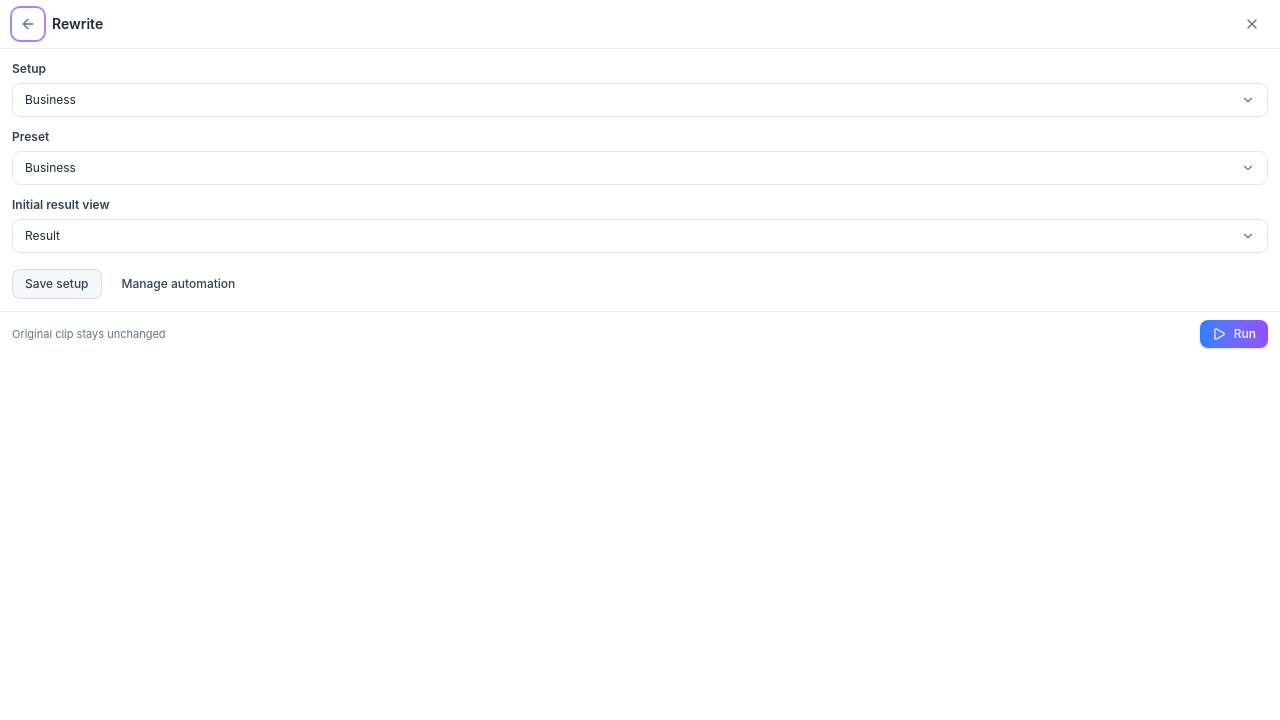
Test case: one durable transformation path › opens a pinned setup and lets the user return to the tool list
Click the button named "Back to tools". click: (28, 24)
box: [12,8,44,40]
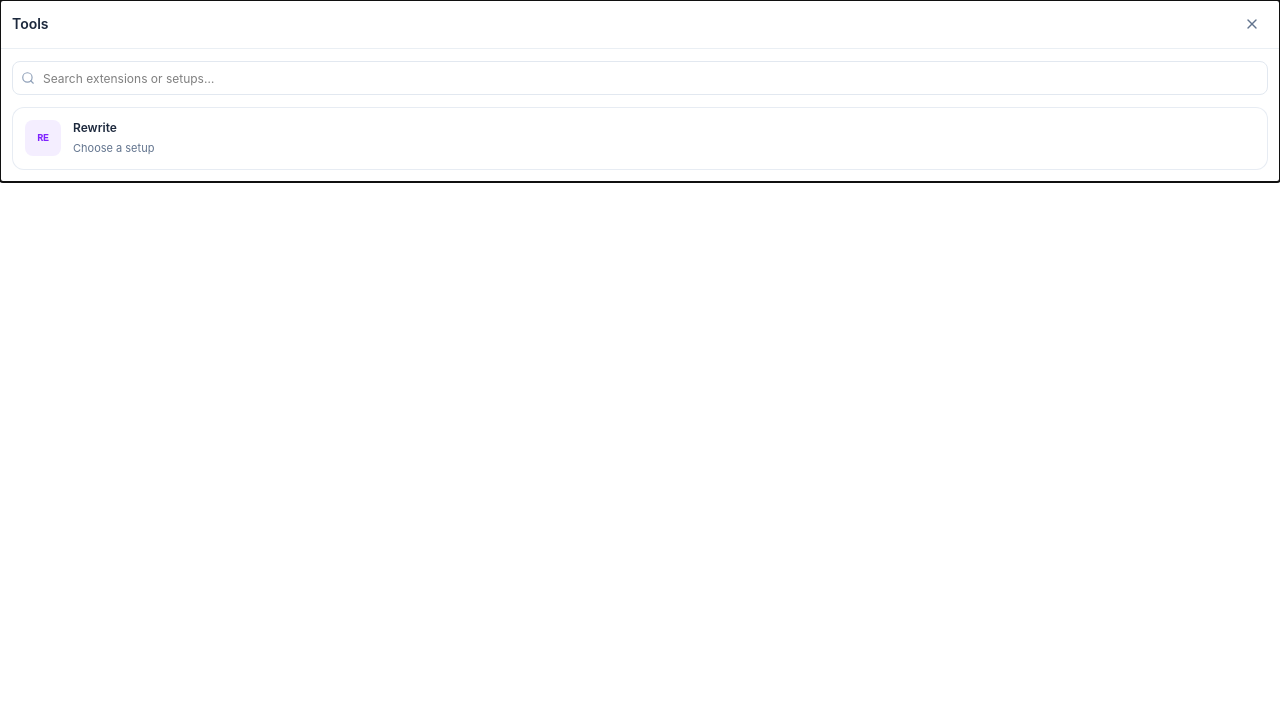
Now the field named "Search tools" is shown, box [43,62,1259,94]
